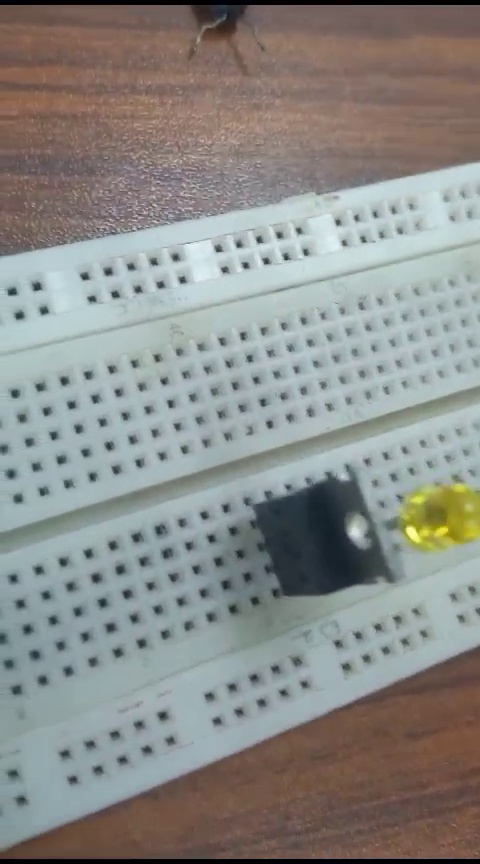LED: (408, 473, 478, 556)
voltage regulator: (248, 464, 399, 613)
